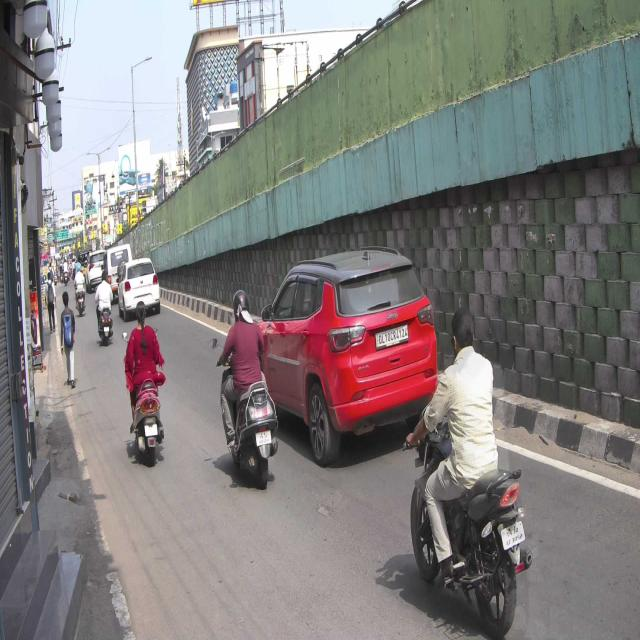single_rider: (403, 302, 535, 640), (215, 286, 281, 494), (124, 298, 166, 467)
